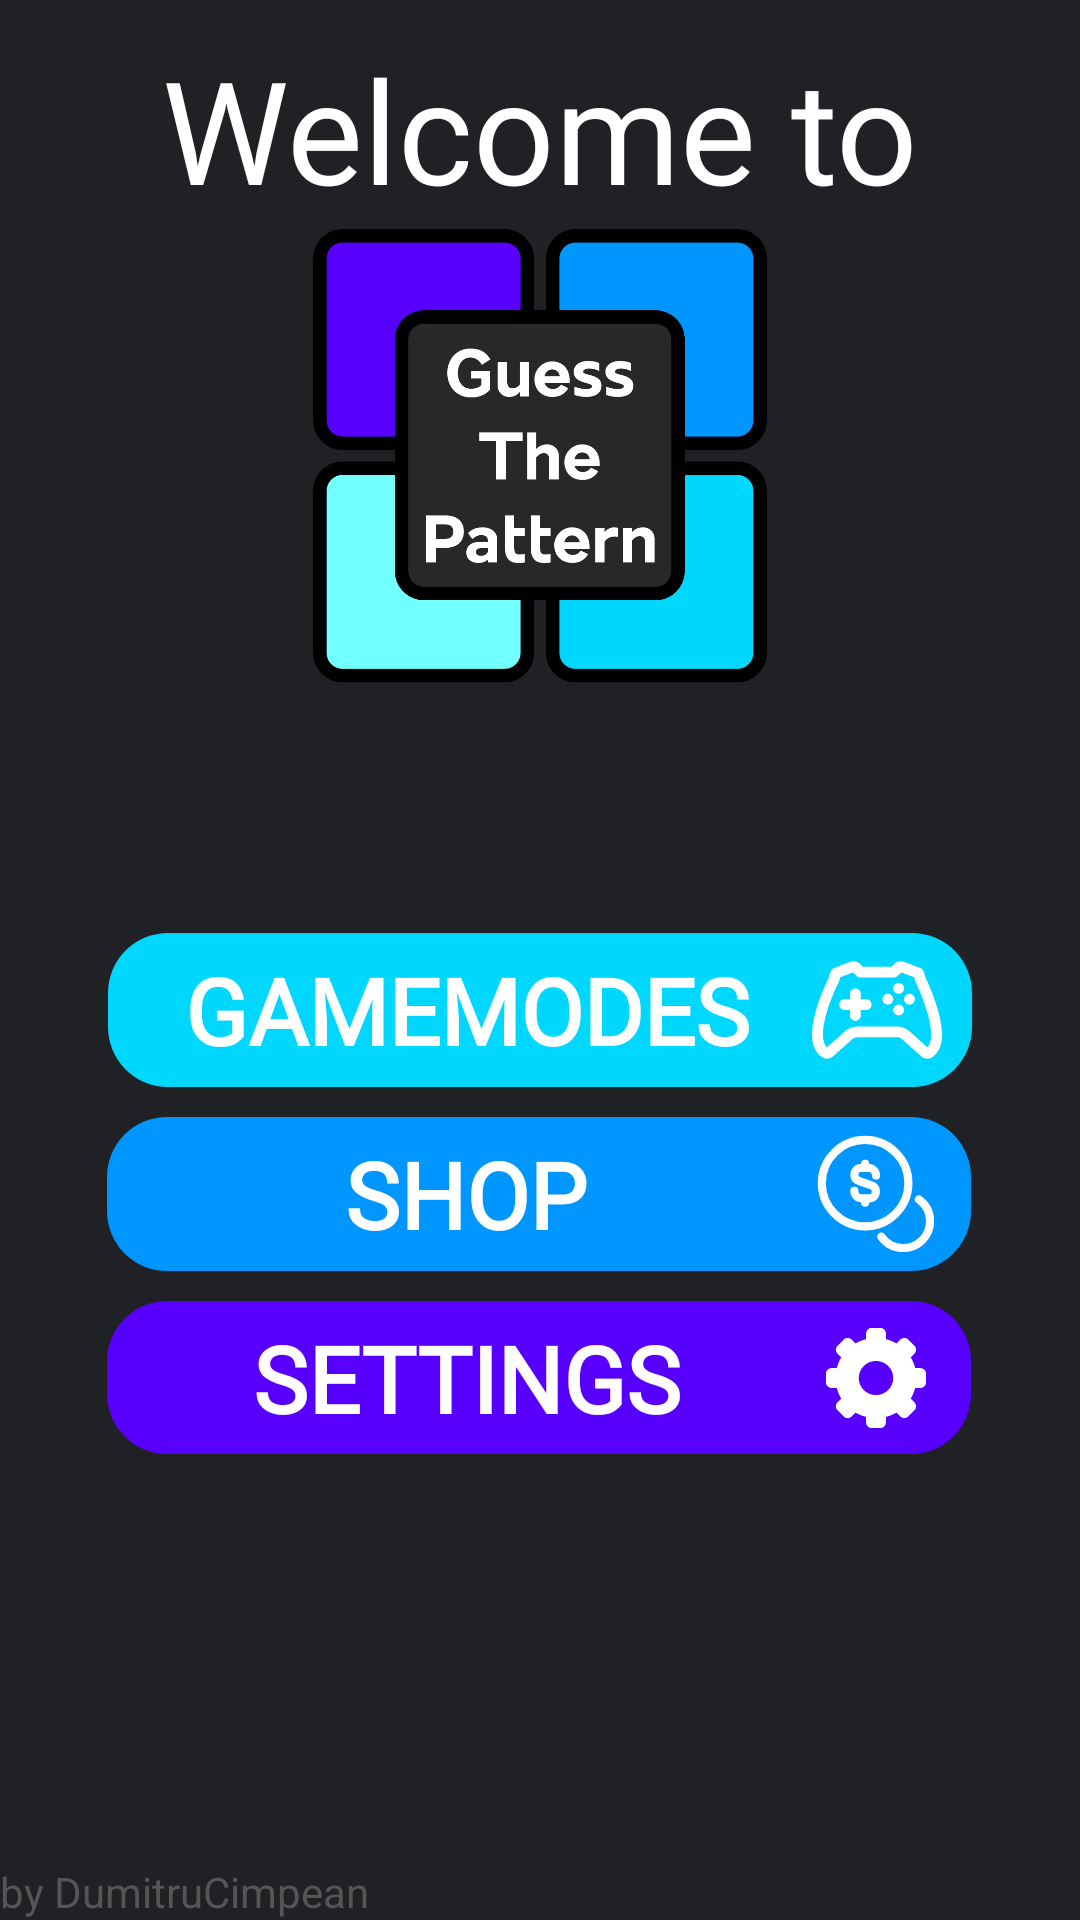

Named icons in this screenshot (1080 × 1920) and their centers, (x,y):
coin: (876,1194)
game controller: (877,1010)
gear: (876,1377)
